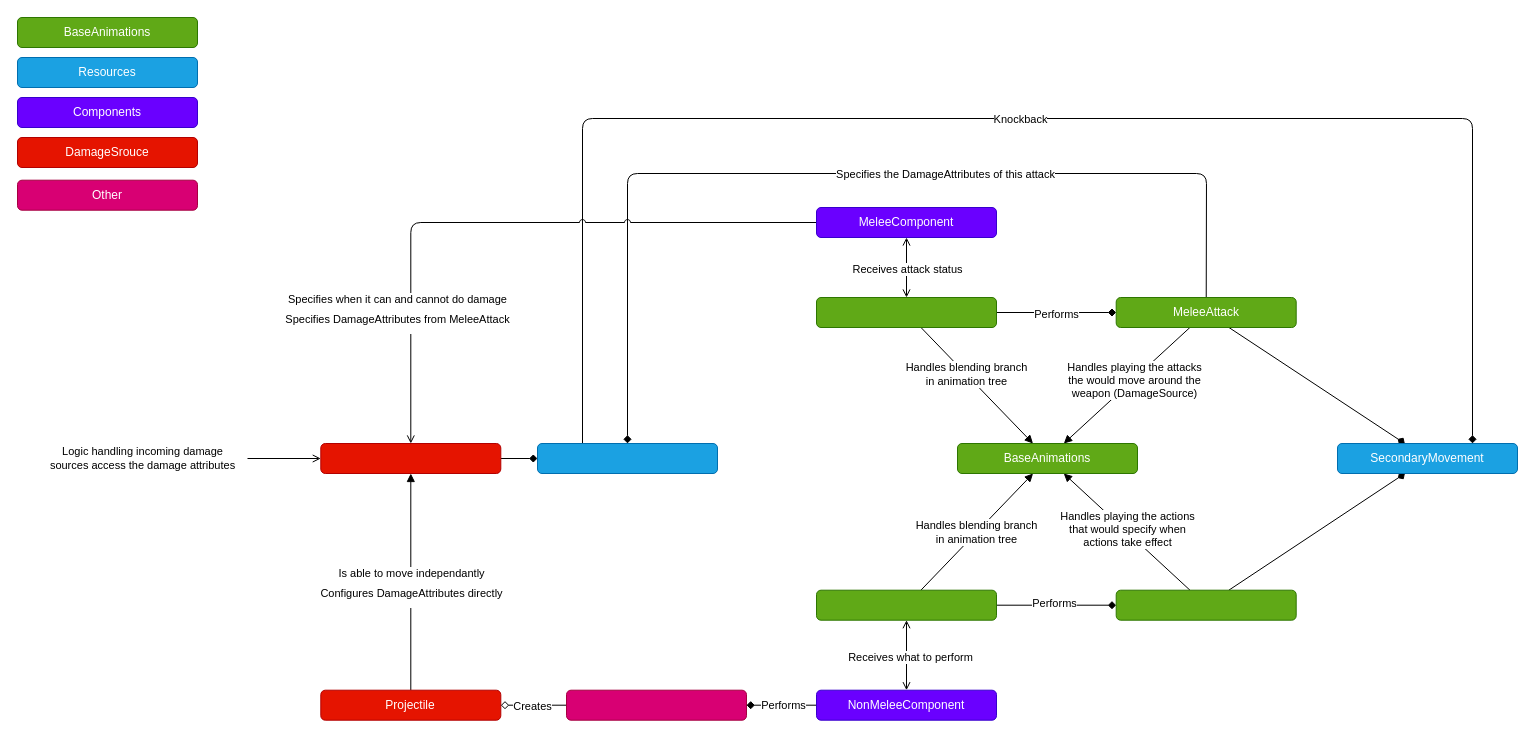
The diagram is 1535 pixels wide and 738 high, and some of its shapes have lost their labels. Each missing label, with the centre of its shape:
"DamageAttributes" belongs at (x=627, y=458).
"DamageSource" belongs at (x=410, y=458).
"MeleeAnimations" belongs at (x=906, y=312).
"NonMeleeAction" belongs at (x=1205, y=604).
"NonMeleeActionEffect" belongs at (x=656, y=704).
"NonMeleeAnimations" belongs at (x=906, y=604).
